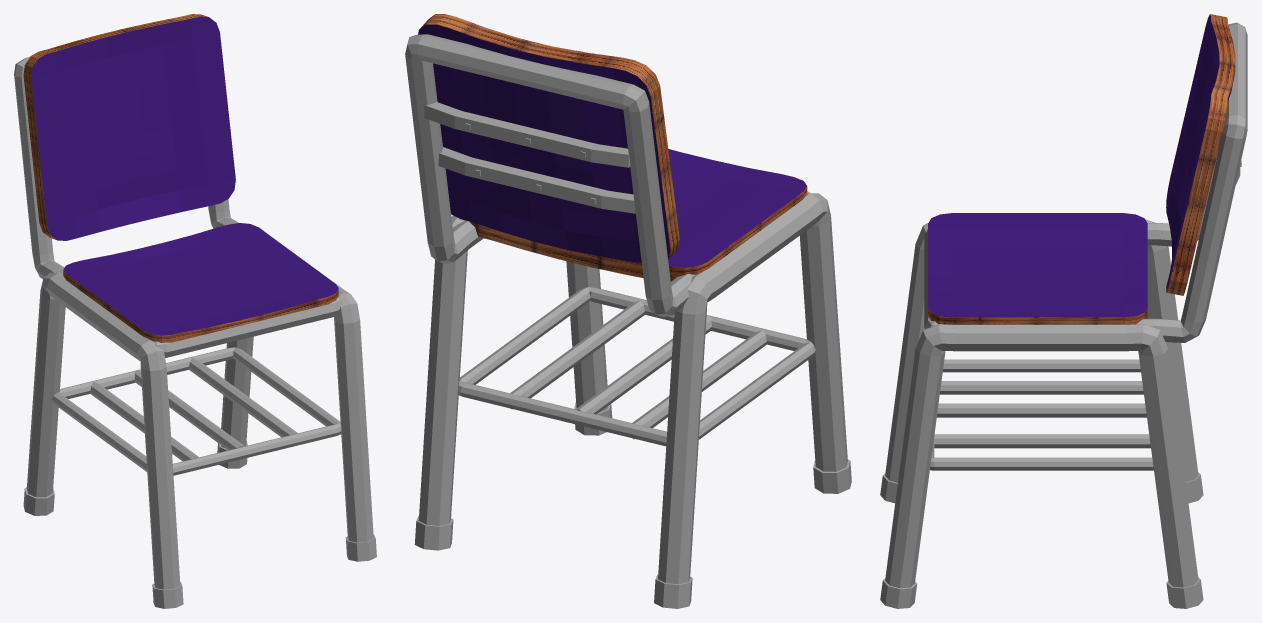
The model's file is silla.fbx.
3 renders of one model, left to right at view 1: azimuth 30°, elevation 25°; view 2: azimuth 150°, elevation 25°; view 3: azimuth 270°, elevation 25°, orthographic. The views are drawn at different scales.
Parts seen in each view (by area): view 1: Cylinder.003, Cylinder.001, Cylinder.002, Cylinder.012, Cylinder.013, Cylinder.026, Cylinder.025, Cylinder.021, Cylinder.017; view 2: Cylinder.003, Cylinder.002, Cylinder.026, Cylinder.012, Cylinder.001, Cylinder.013, Cylinder.005, Cylinder.004, Cylinder.025, Cylinder.021, Cylinder.017; view 3: Cylinder.001, Cylinder.012, Cylinder.003, Cylinder.026, Cylinder.002, Cylinder.013, Cylinder.025, Cylinder.021, Cylinder.017.
Part boxes in pixels (x1=…): Cylinder.003: x1=23, y1=14, x2=235, y2=240; Cylinder.001: x1=63, y1=223, x2=338, y2=342; Cylinder.002: x1=23, y1=272, x2=183, y2=608; Cylinder.012: x1=217, y1=227, x2=376, y2=561; Cylinder.013: x1=52, y1=347, x2=341, y2=475; Cylinder.026: x1=14, y1=56, x2=342, y2=357; Cylinder.025: x1=189, y1=358, x2=297, y2=437; Cylinder.021: x1=134, y1=369, x2=244, y2=450; Cylinder.017: x1=90, y1=382, x2=199, y2=461; Cylinder.003: x1=418, y1=14, x2=679, y2=263; Cylinder.002: x1=654, y1=193, x2=851, y2=608; Cylinder.026: x1=405, y1=34, x2=810, y2=317; Cylinder.012: x1=414, y1=215, x2=612, y2=550; Cylinder.001: x1=470, y1=149, x2=807, y2=281; Cylinder.013: x1=458, y1=287, x2=815, y2=446; Cylinder.005: x1=424, y1=101, x2=630, y2=167; Cylinder.004: x1=438, y1=147, x2=635, y2=213; Cylinder.025: x1=510, y1=300, x2=644, y2=409; Cylinder.021: x1=575, y1=315, x2=712, y2=414; Cylinder.017: x1=632, y1=330, x2=766, y2=439; Cylinder.001: x1=928, y1=213, x2=1147, y2=324; Cylinder.012: x1=880, y1=323, x2=1203, y2=608; Cylinder.003: x1=1166, y1=14, x2=1235, y2=295; Cylinder.026: x1=924, y1=22, x2=1247, y2=342; Cylinder.002: x1=880, y1=219, x2=1203, y2=503; Cylinder.013: x1=930, y1=359, x2=1153, y2=470; Cylinder.025: x1=933, y1=434, x2=1150, y2=448; Cylinder.021: x1=936, y1=403, x2=1146, y2=417; Cylinder.017: x1=940, y1=381, x2=1143, y2=394.
Bounding box in the file's own units: 50.68 × 97.38 × 65.86.
Materials: 3 (1 with a texture image).
